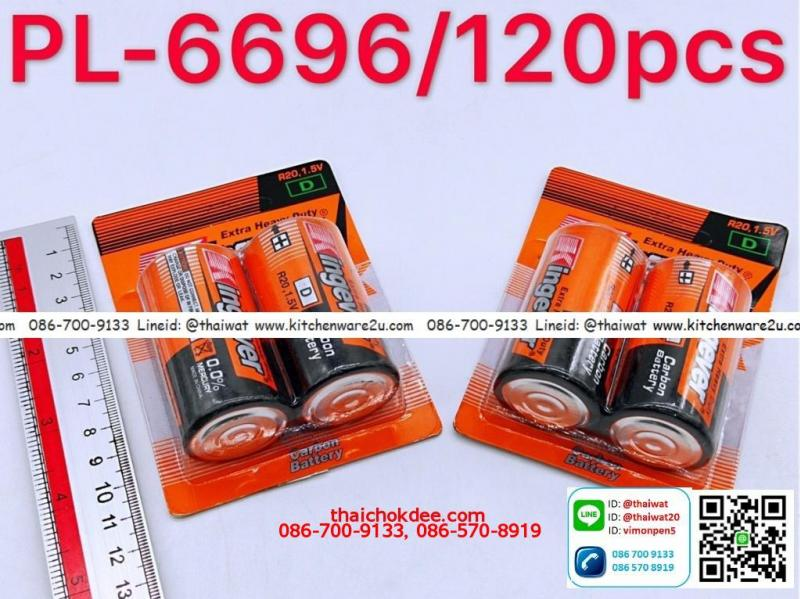Battery: (242, 213, 402, 430), (599, 253, 755, 473), (137, 241, 288, 465), (492, 220, 650, 433)
